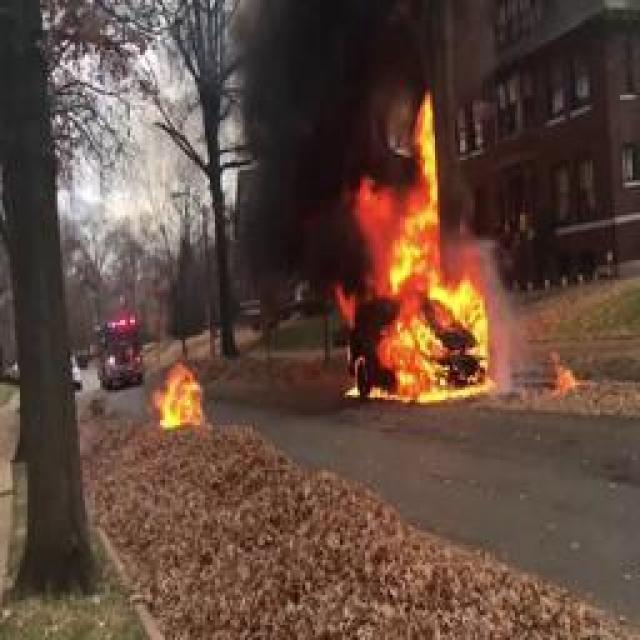Fire: (361, 172, 488, 416), (156, 349, 218, 434), (415, 95, 442, 219), (532, 364, 594, 415)
Smoke: (243, 14, 343, 306), (348, 10, 438, 150)
